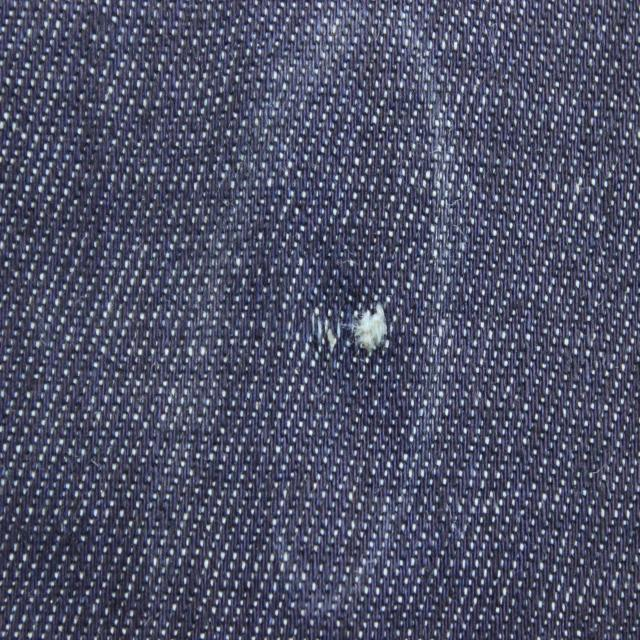pulled_or_thick_thread: (300, 285, 404, 380)
